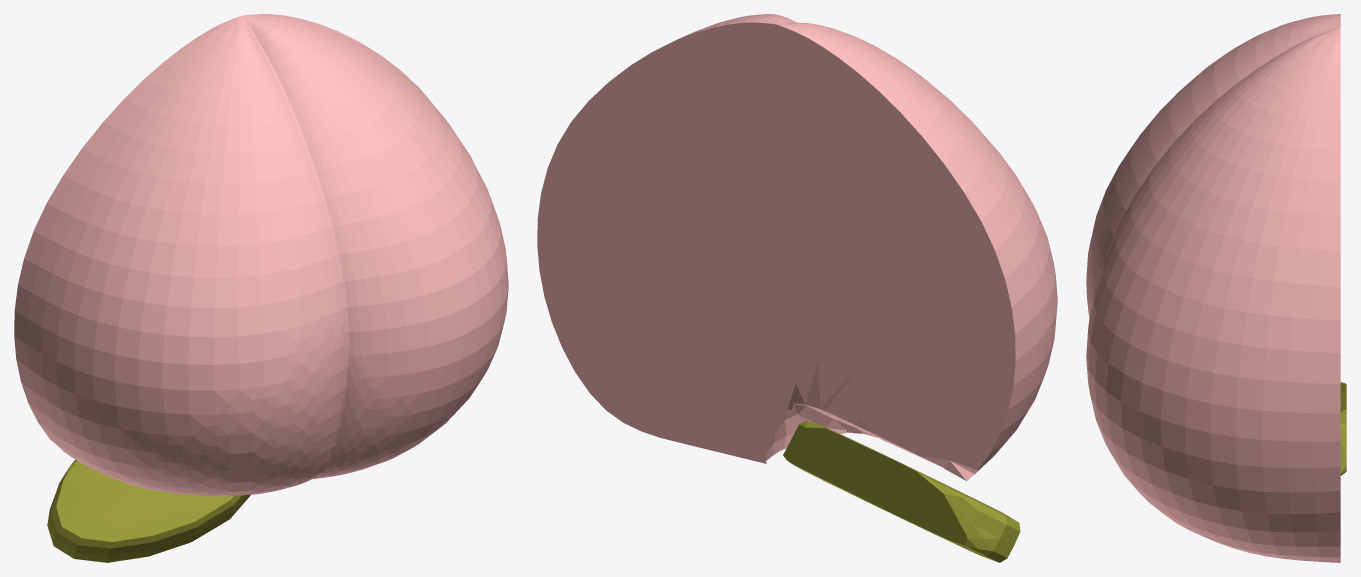
Rendered from peach.glb.
3 views of the same model, side by side, from view 1: azimuth 30°, elevation 25°; view 2: azimuth 150°, elevation 25°; view 3: azimuth 270°, elevation 25° (orthographic). The views are drawn at different scales.
Parts seen in each view (by area): view 1: Sphere.039, Plane.152; view 2: Sphere.039, Plane.152; view 3: Sphere.039, Plane.152.
Boxes of the visible parts, x1,y1,x2,y2 form: Sphere.039: (14,14,508,496); Plane.152: (47,459,250,562); Sphere.039: (537,14,1057,480); Plane.152: (783,420,1020,562); Sphere.039: (1086,14,1340,562); Plane.152: (1340,382,1346,475).
Bounding box in the file's own units: 14.56 × 14.85 × 6.54.
